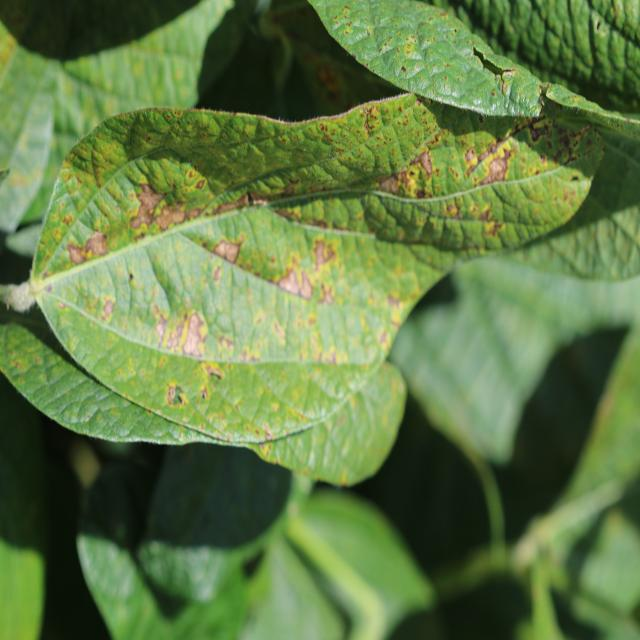Bacterial_Blight: (526, 119, 596, 171), (136, 174, 174, 227), (376, 156, 425, 196), (66, 232, 109, 265), (277, 265, 314, 301), (179, 311, 207, 356), (211, 193, 257, 216), (484, 154, 510, 184), (213, 238, 242, 264), (313, 240, 336, 269), (413, 150, 433, 179), (200, 362, 223, 387), (377, 173, 402, 195), (166, 383, 188, 407), (246, 189, 277, 206), (154, 313, 169, 346), (216, 334, 234, 354), (363, 108, 375, 137), (386, 293, 402, 312), (101, 298, 115, 319), (464, 146, 477, 165), (501, 67, 516, 80)
Soybean: (33, 95, 597, 445)
